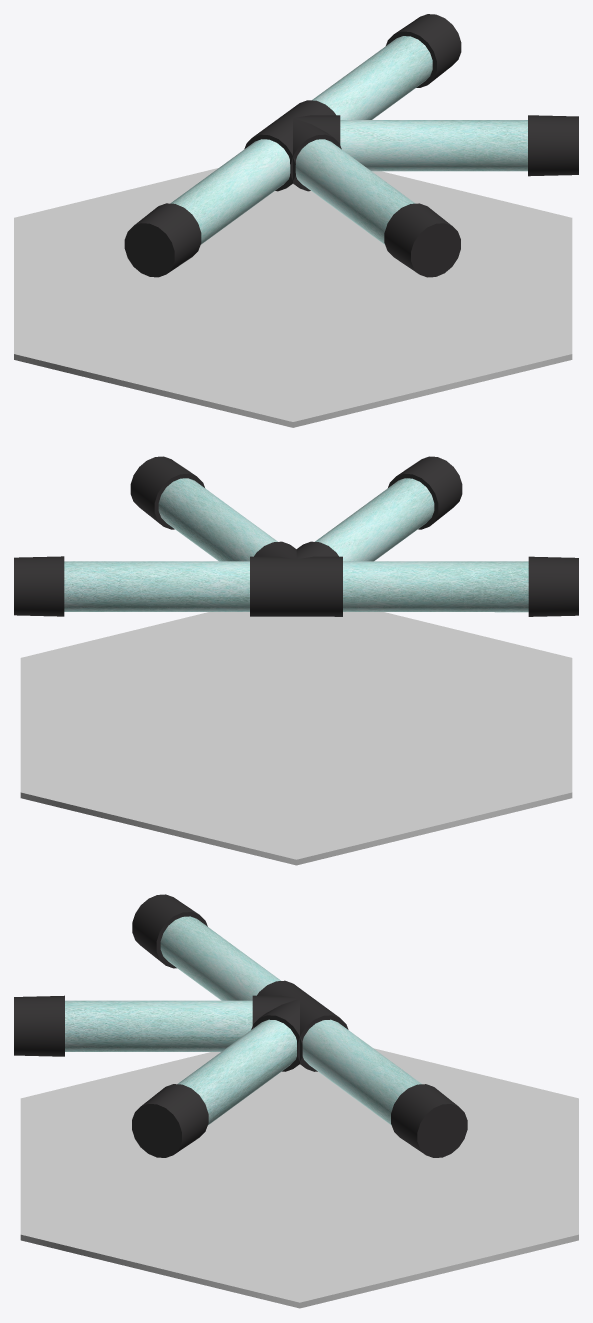
Rendered from four2.FBX.
The picture shows the model from 3 angles, top to bottom: view 1: azimuth 30°, elevation 25°; view 2: azimuth 150°, elevation 25°; view 3: azimuth 270°, elevation 25°; orthographic projection.
Parts seen in each view (by area): view 1: Cylinder017, Cylinder018, Cylinder016, Cylinder019; view 2: Cylinder017, Cylinder018, Cylinder019, Cylinder016; view 3: Cylinder017, Cylinder018, Cylinder019, Cylinder016.
Part boxes in pixels (x1,y1,x2,y2): Cylinder017: (14, 168, 572, 427); Cylinder018: (124, 14, 461, 277); Cylinder016: (294, 115, 578, 176); Cylinder019: (290, 118, 460, 277); Cylinder017: (20, 612, 572, 865); Cylinder018: (14, 556, 578, 616); Cylinder019: (296, 456, 462, 561); Cylinder016: (130, 456, 296, 561); Cylinder017: (20, 1048, 578, 1308); Cylinder018: (132, 894, 467, 1157); Cylinder019: (14, 995, 298, 1056); Cylinder016: (132, 998, 302, 1157).
Bounding box in the file's own units: 100 × 29.75 × 87.66.
2 materials, 2 textured.
